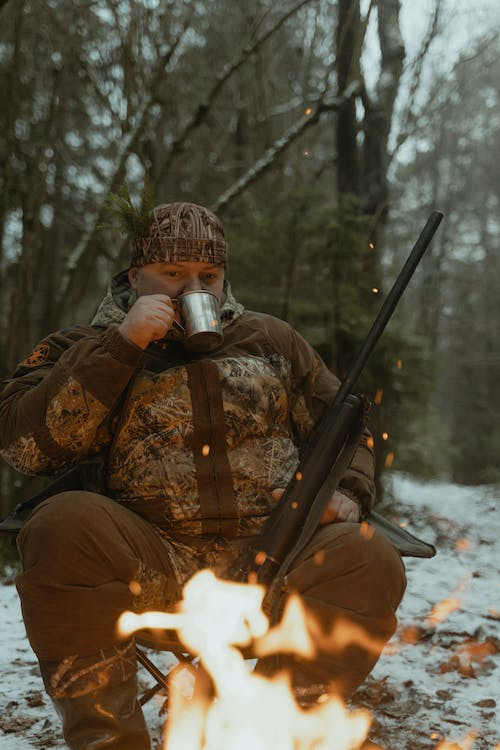gun: (233, 205, 449, 586)
